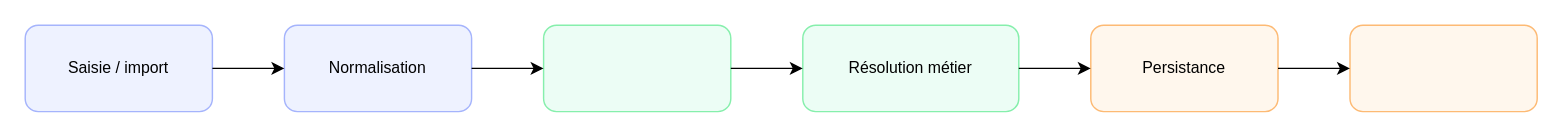
This 1562x137 diagram has some shape labels left out. Each missing label, with the centre of its shape:
"Effets budget" goes at point 1443,68.
"Règles" goes at point 636,68.
